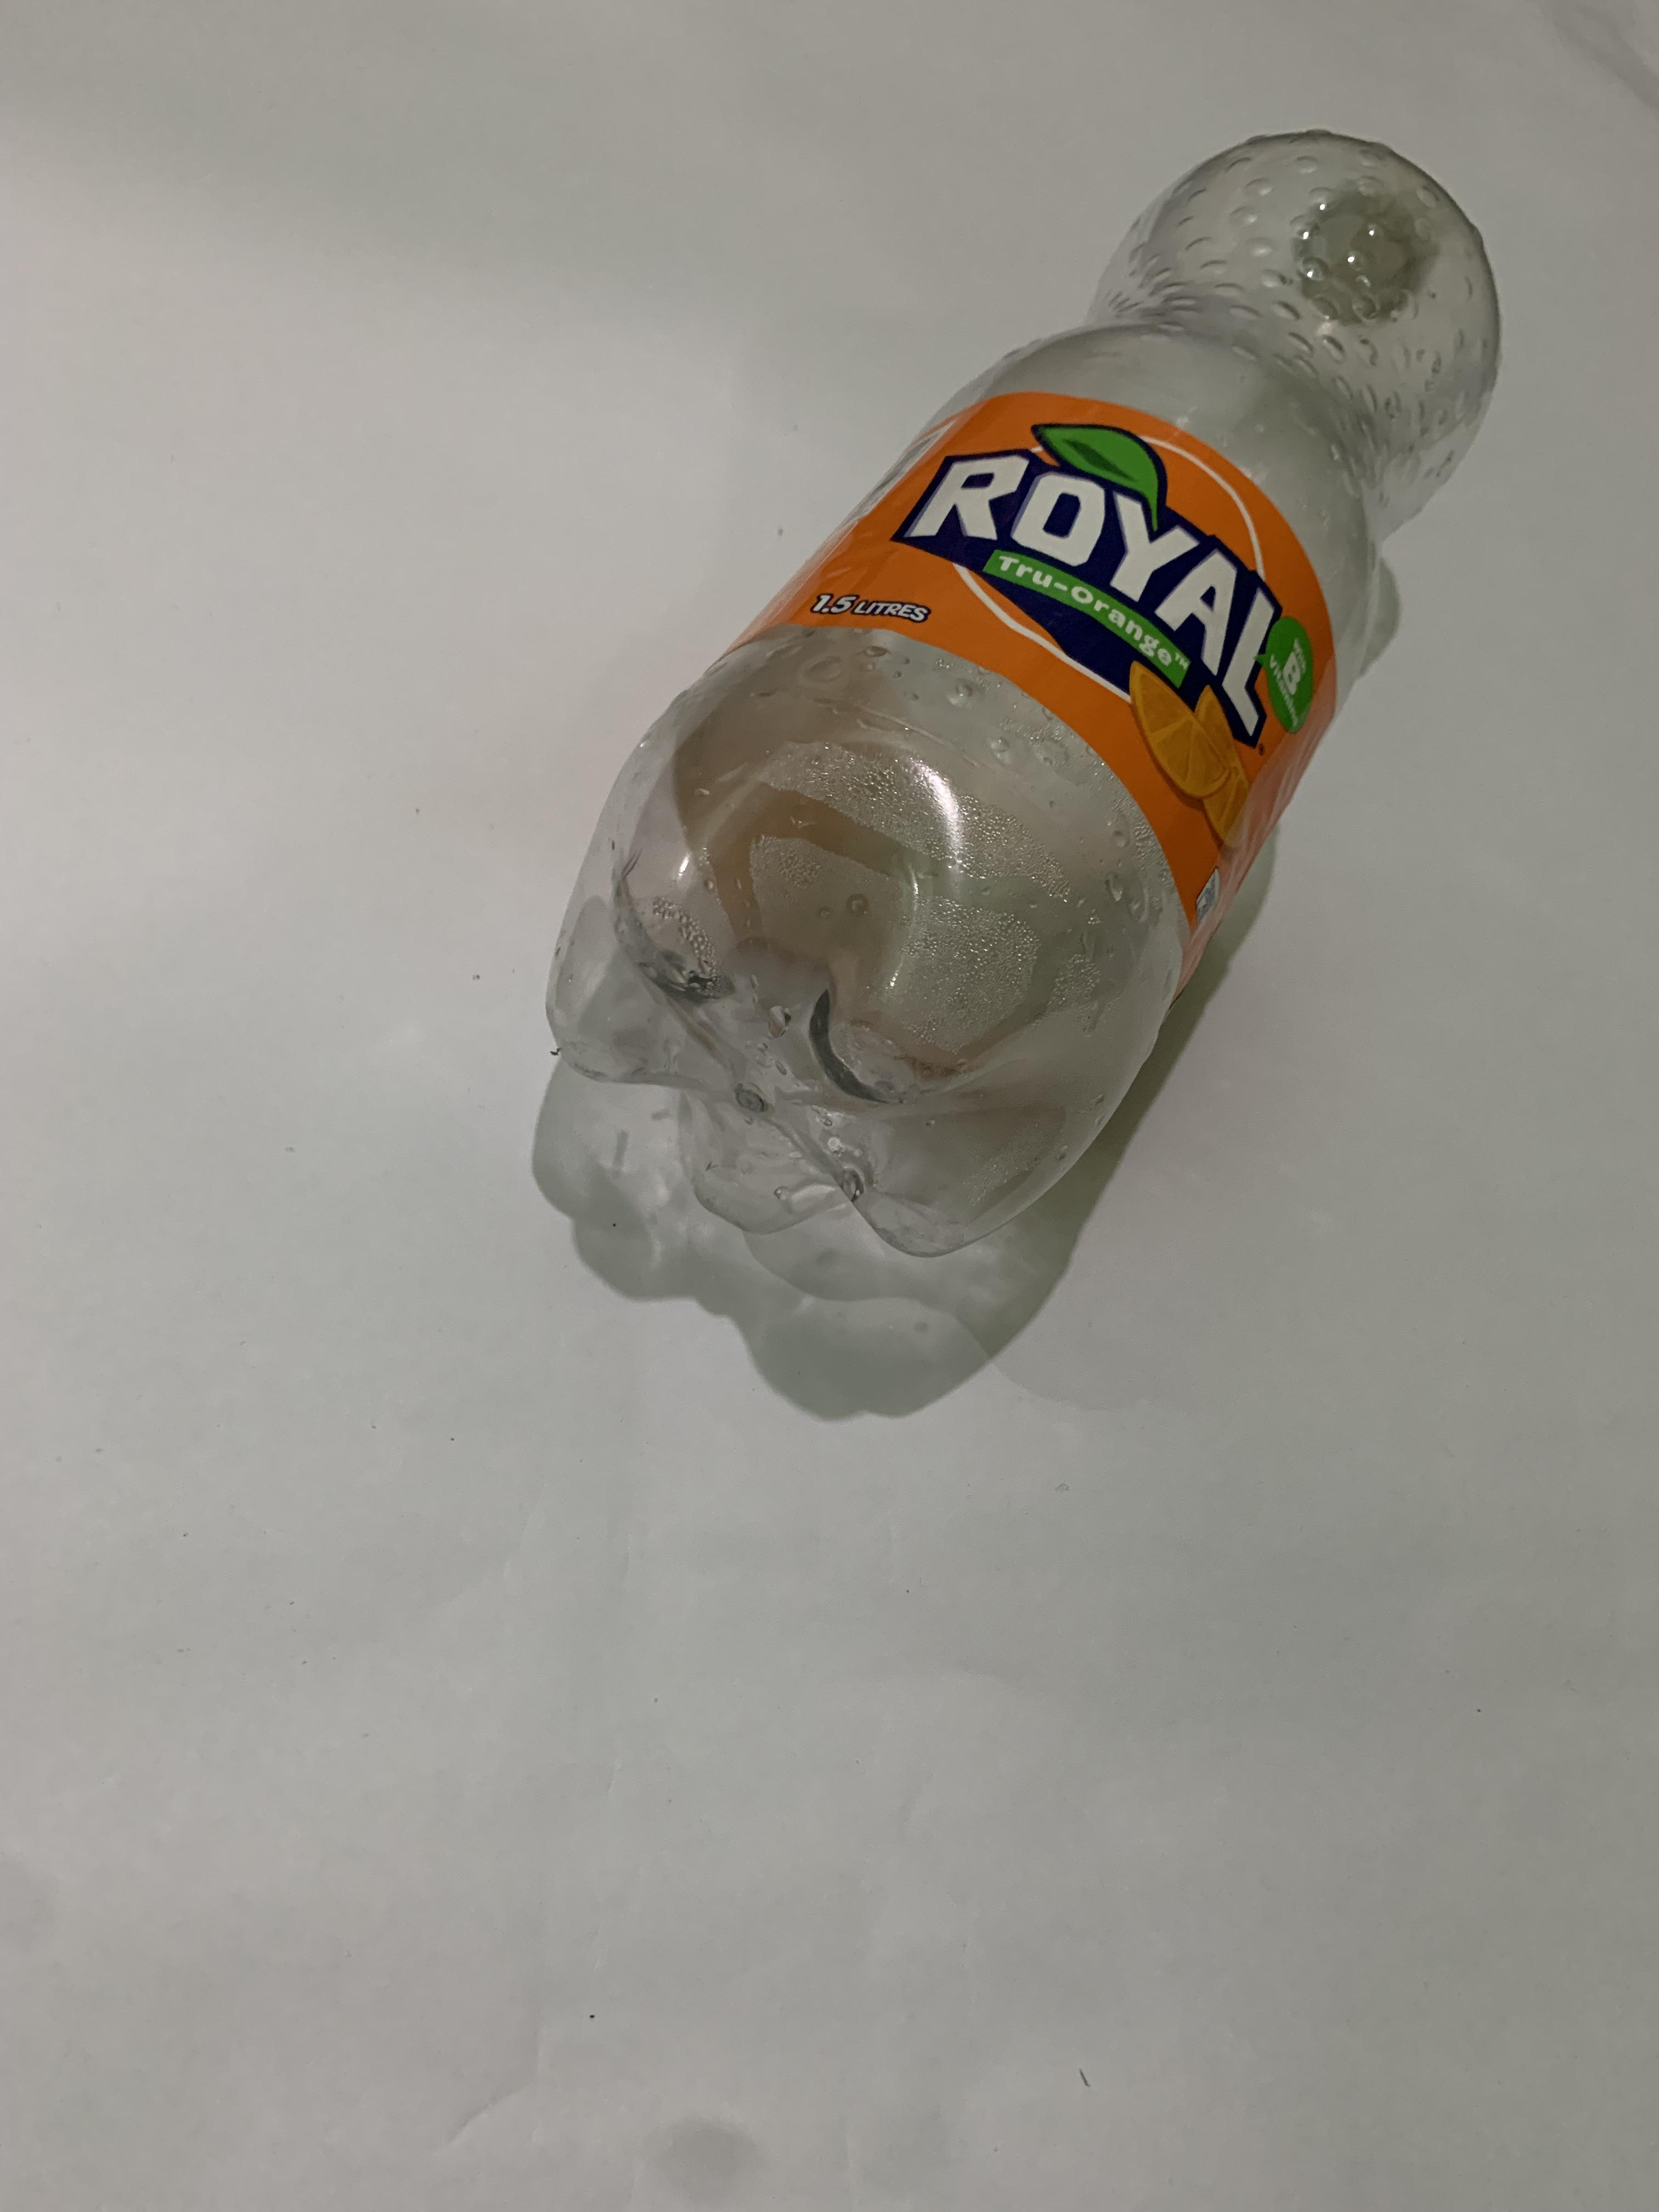bottle: (939, 669, 1086, 719)
